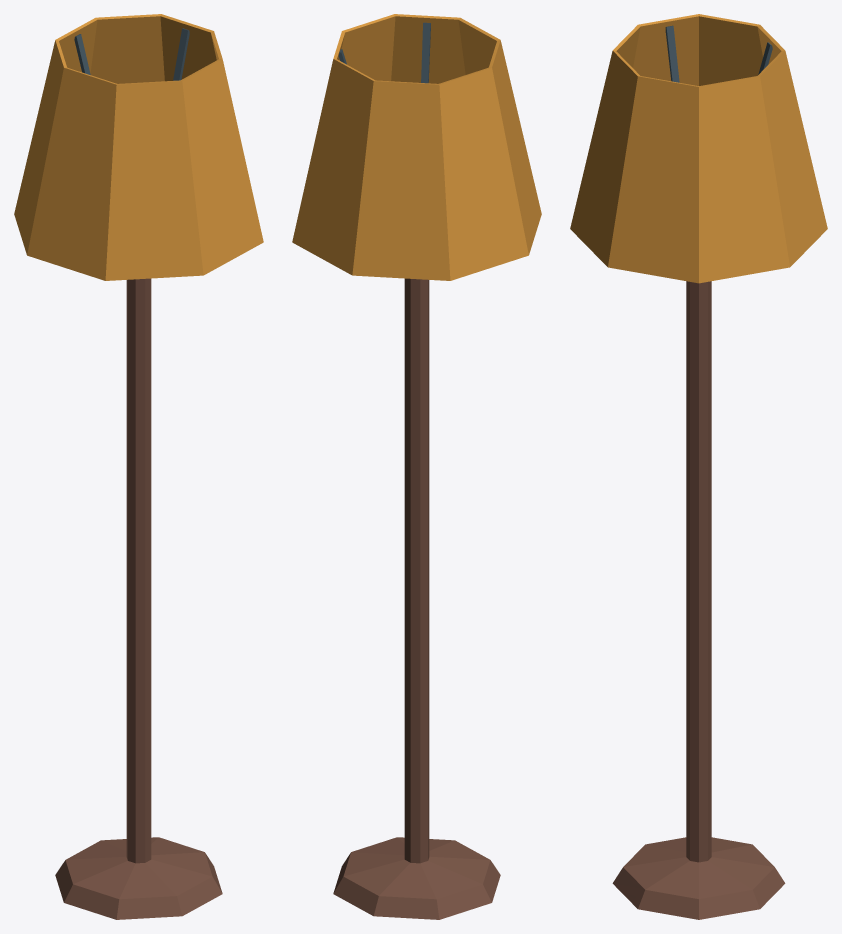
Rendered from lamp.glb.
3 renders of one model, left to right at view 1: azimuth 30°, elevation 25°; view 2: azimuth 150°, elevation 25°; view 3: azimuth 270°, elevation 25°, orthographic.
Visible parts, largest first — view 1: Standing_lamp_01_Circle.003; view 2: Standing_lamp_01_Circle.003; view 3: Standing_lamp_01_Circle.003.
Part boxes in pixels (x1,y1,x2,y2): Standing_lamp_01_Circle.003: [14, 14, 263, 919]; Standing_lamp_01_Circle.003: [292, 14, 541, 919]; Standing_lamp_01_Circle.003: [570, 14, 827, 919].
Size of the model in its own units: 2.79 by 9.96 by 2.79.
